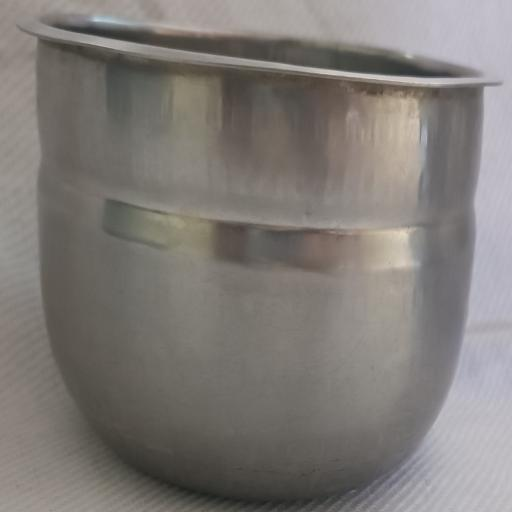vessel: (21, 15, 495, 499)
